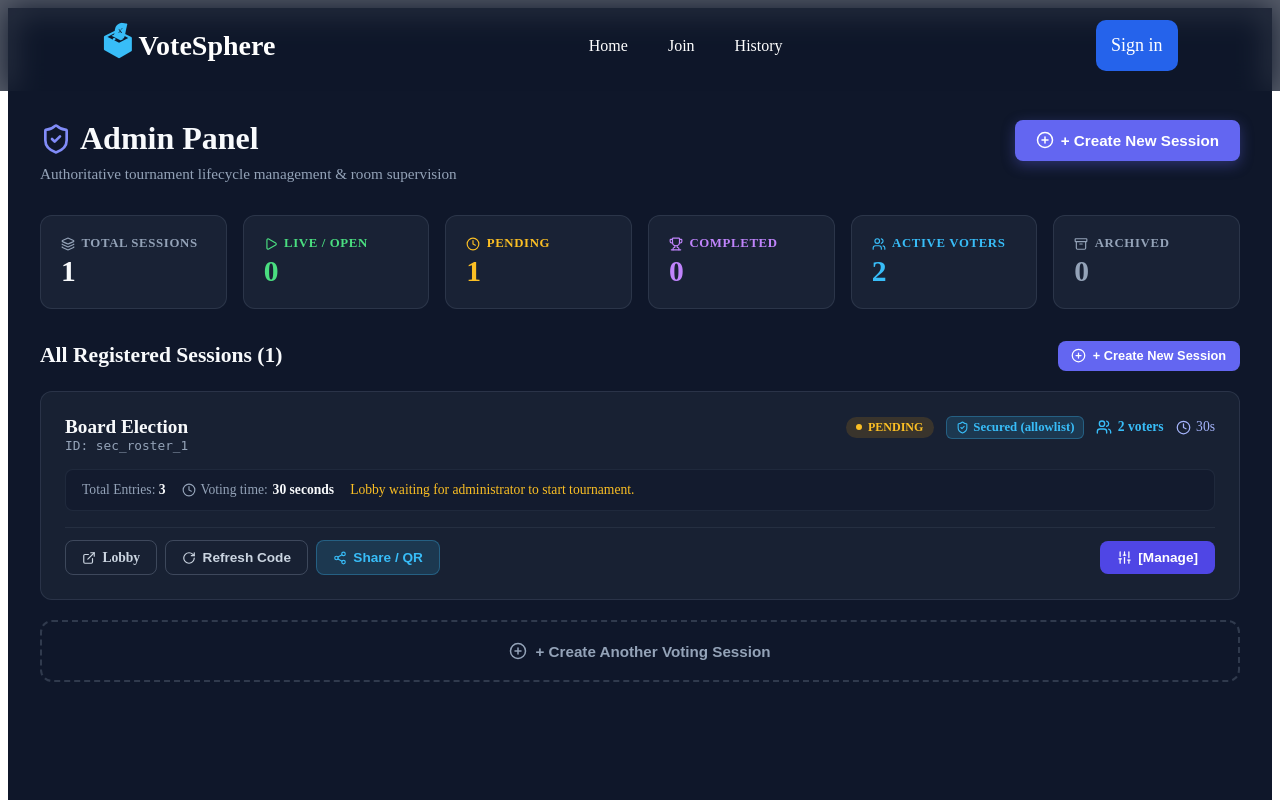
Admin roster subscription survives reconnect (review minor 2026-10-03) › stops re-subscribing after Manage is closed
What coordinates should you click on to do the following:
click the button with test id "manage-session-sec_roster_1"
I would click on:
 (1157, 558)
Its box is [1100,541,1215,574].
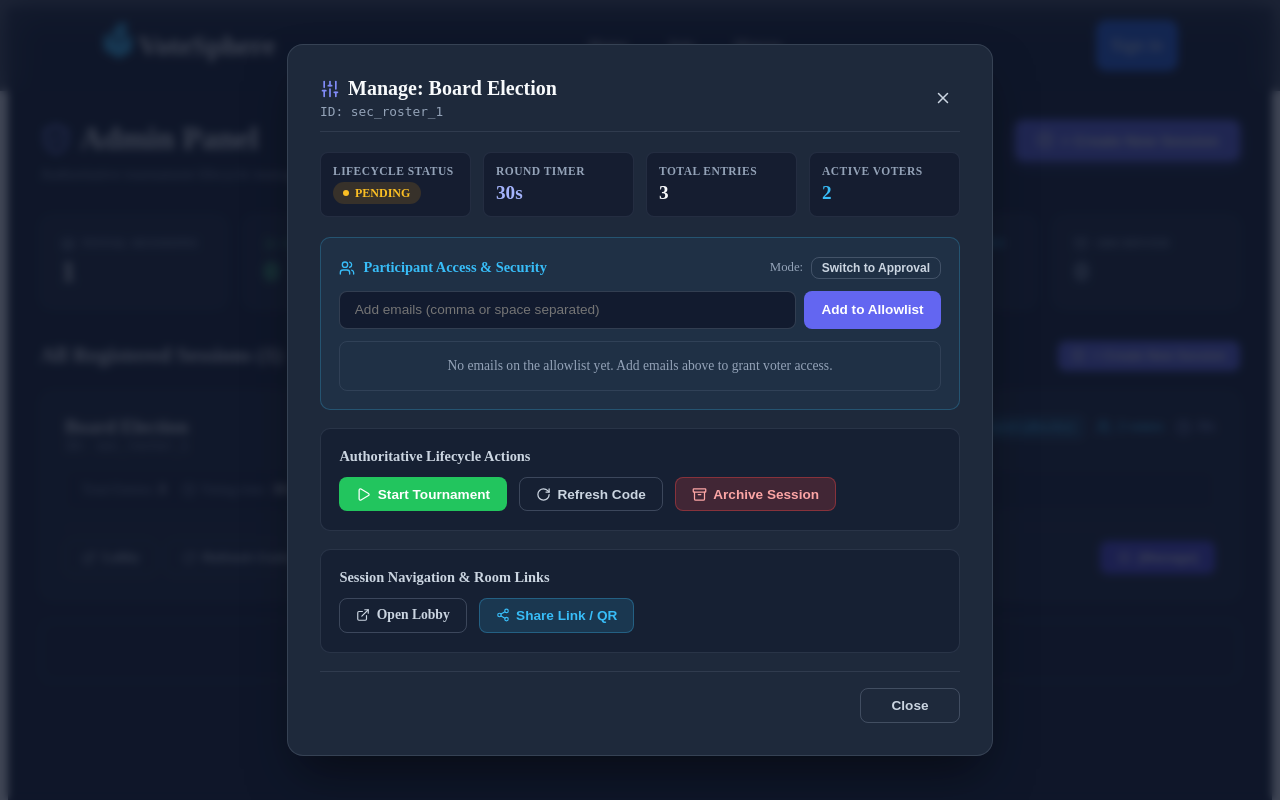
What coordinates should you click on to do the following:
click the button with test id "manage-modal-close-btn"
I would click on:
 (943, 98)
Its box is [926,85,960,111].
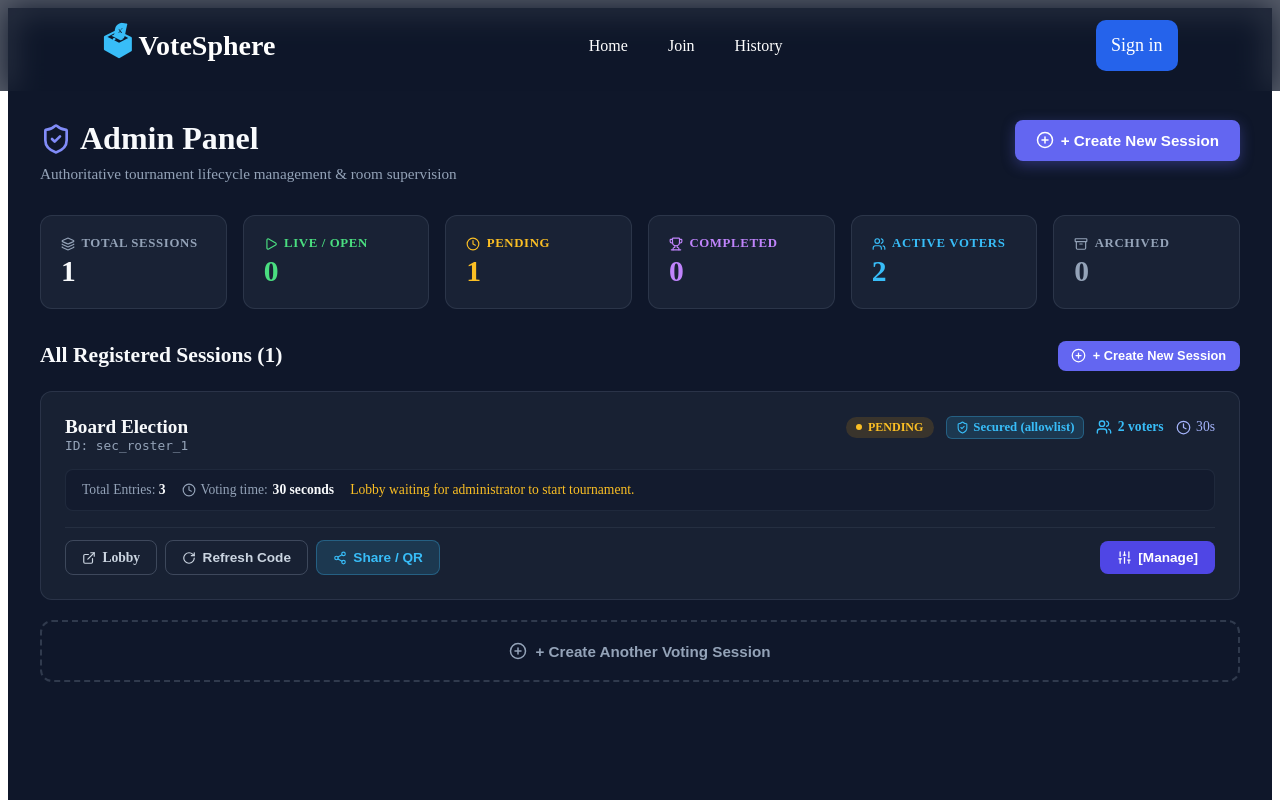
Now the dialog with test id "manage-session-modal" is gone
